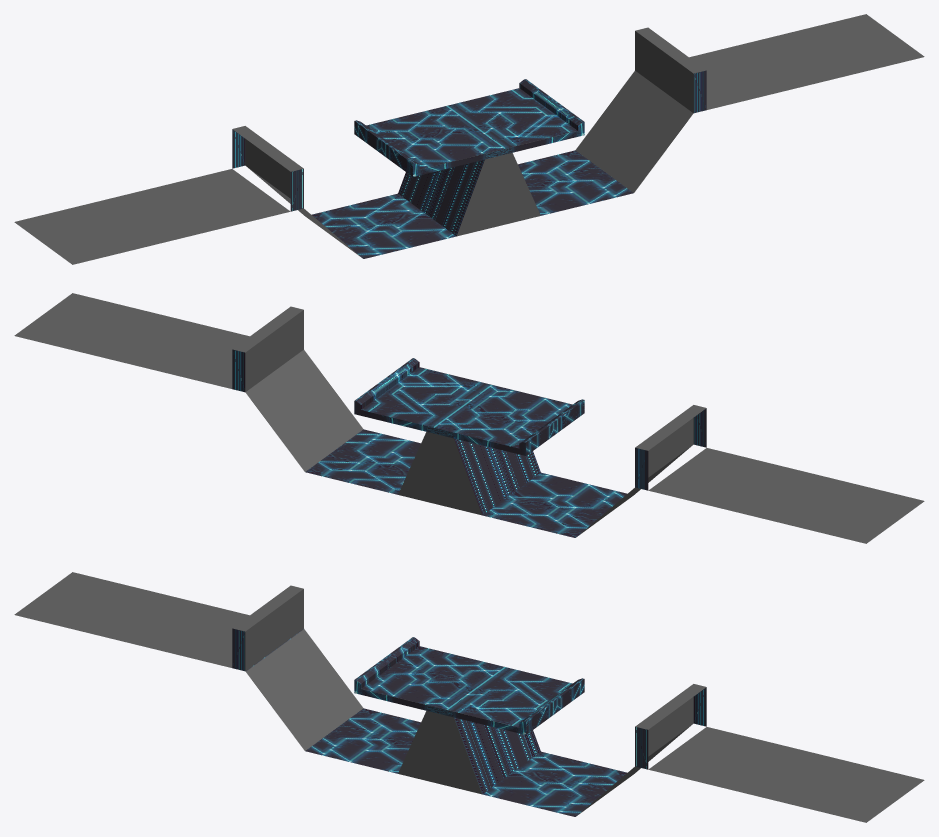
File: roadtile.obj
3 views of the same model, one above another, from view 1: azimuth 30°, elevation 25°; view 2: azimuth 150°, elevation 25°; view 3: azimuth 330°, elevation 25° (orthographic).
Visible parts, largest first — view 1: pPlane4; view 2: pPlane4; view 3: pPlane4.
Boxes of the visible parts, box(x1,y1,x2,y2) form: pPlane4: box(14, 14, 924, 264); pPlane4: box(14, 293, 924, 543); pPlane4: box(14, 572, 924, 822).
Bounding box in the file's own units: 5458 × 643 × 650.
1 material, 1 textured.
